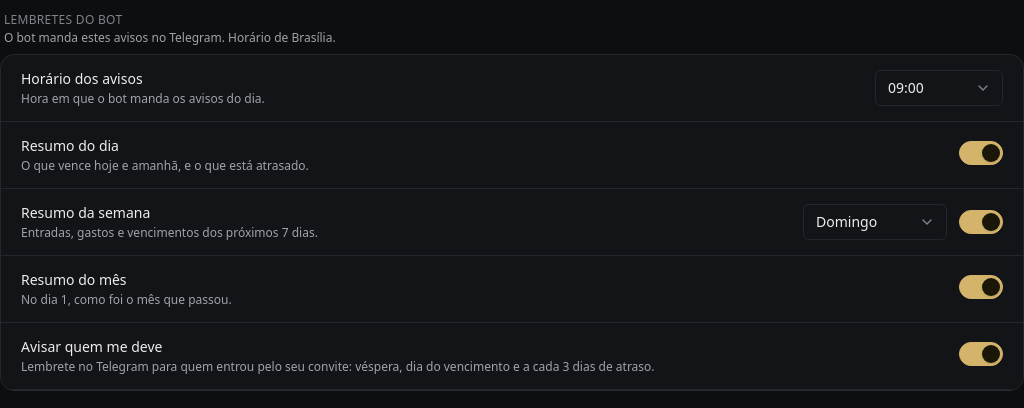
it: Lembretes do bot › o dia do resumo da semana só vale com o resumo ligado
The width and height of the screenshot is (1024, 408).
Check: the dropdown named "Dia do resumo da semana" is enabled, box [803,204,947,240]
Click the switch named "Resumo da semana". click: click(981, 222)
box: [959,210,1003,234]
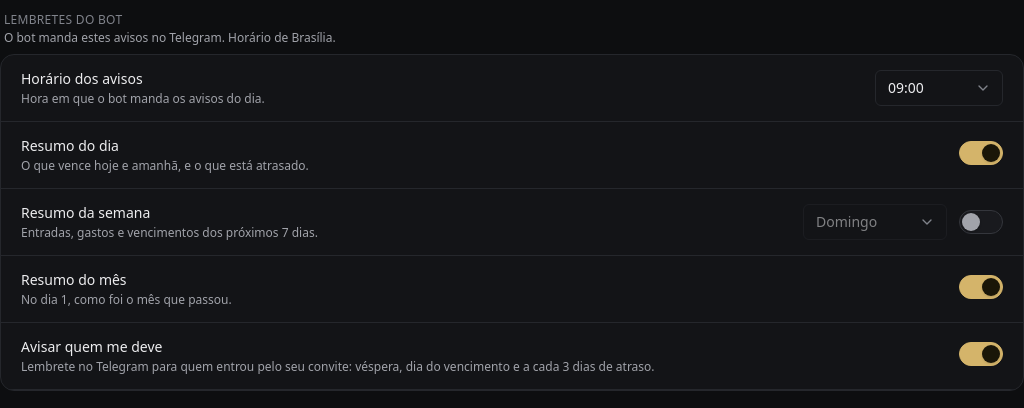
Check: the dropdown named "Dia do resumo da semana" is disabled, box [803,204,947,240]
